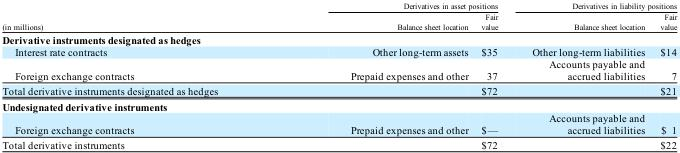table: (1, 0, 676, 150)
table column: (1, 0, 241, 150), (241, 0, 474, 150), (514, 0, 651, 150), (474, 0, 514, 150), (651, 0, 676, 150)
table column header: (1, 0, 676, 32)
table projected row header: (1, 32, 676, 45), (1, 98, 676, 111)
table row: (1, 111, 676, 137), (1, 57, 676, 82), (1, 10, 676, 32), (1, 82, 676, 98), (1, 32, 676, 45), (1, 98, 676, 111), (1, 137, 676, 150), (1, 45, 676, 57), (1, 0, 676, 10)
table spanning cell: (1, 0, 241, 32), (1, 82, 474, 98), (1, 137, 474, 150), (241, 0, 514, 10), (514, 0, 676, 10)
